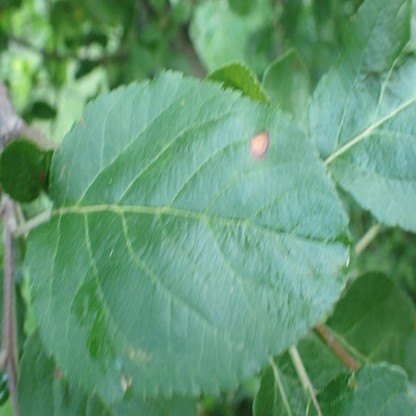frogeye_leaf_spot: (249, 130, 268, 162)
